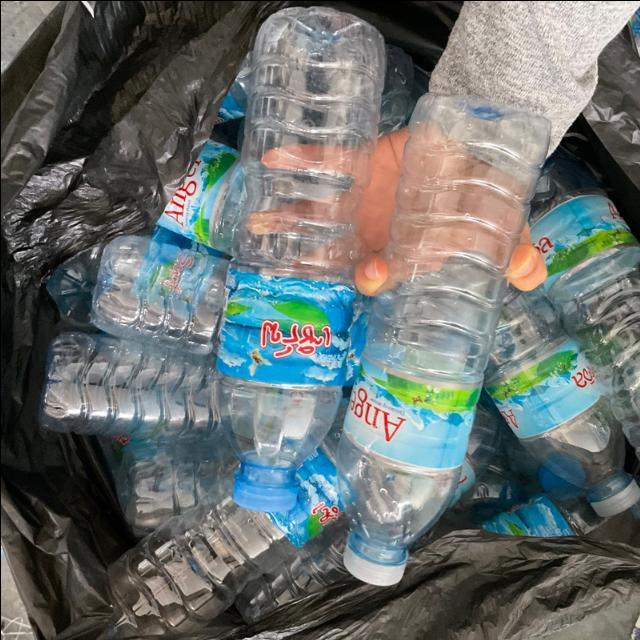PET Bottle: (300, 70, 572, 597), (204, 5, 401, 523)
